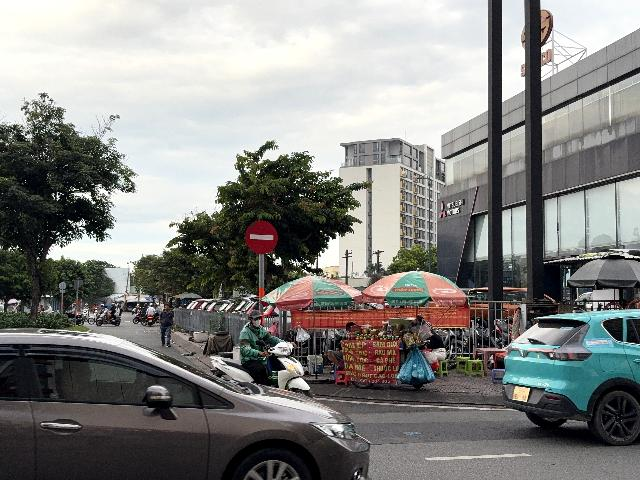cam-di-nguoc-chieu: (245, 220, 279, 254)
